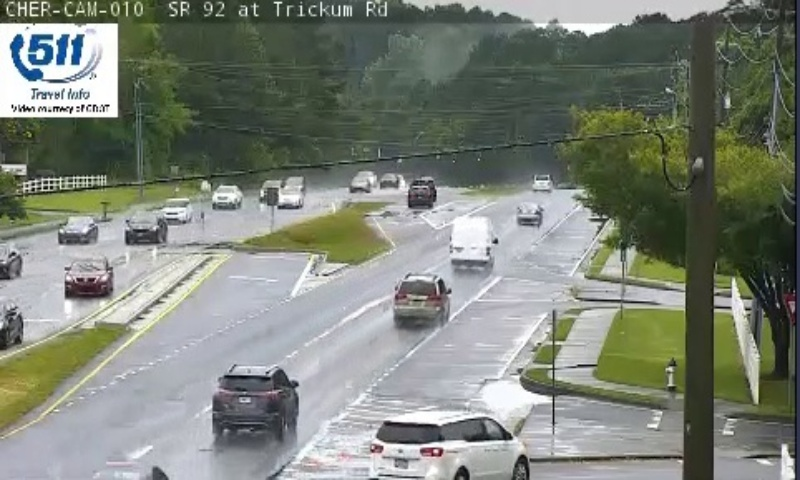car: (212, 368, 300, 431), (392, 274, 449, 319), (517, 203, 542, 227)
van: (451, 216, 492, 267)
